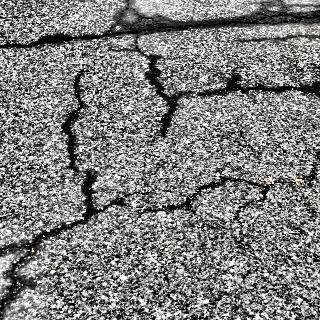crack: (1, 69, 136, 318), (3, 0, 318, 57), (146, 62, 320, 142), (141, 173, 313, 219)
